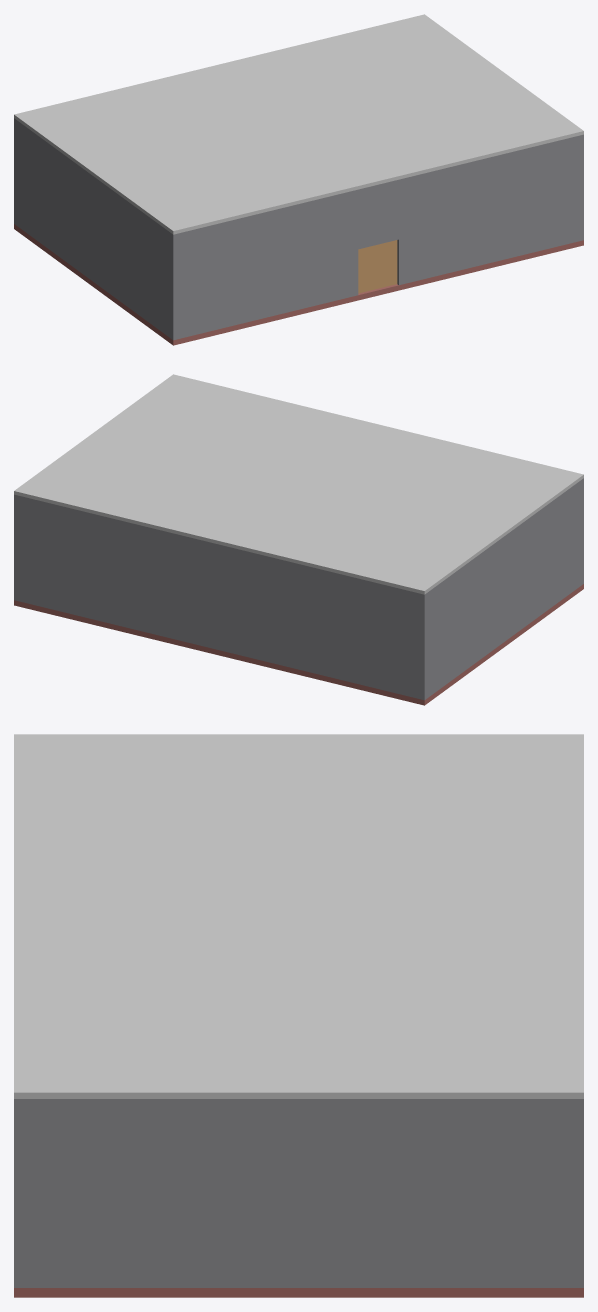
The model's file is cinema_lobby.glb.
3 views of the same model, one above another, from view 1: azimuth 30°, elevation 25°; view 2: azimuth 150°, elevation 25°; view 3: azimuth 270°, elevation 25° (orthographic). The views are drawn at different scales.
Visible parts, largest first — view 1: Lobby_Ceiling, Lobby_Wall_S_1, Lobby_Wall_S_3, Lobby_Wall_W_1, Lobby_Floor, Lobby_Wall_S_2, DoorLeaf_wing_cinema_B, DoorLeaf_wing_cinema_A; view 2: Lobby_Ceiling, Lobby_Wall_N_1, Lobby_Wall_W_1, Lobby_Floor; view 3: Lobby_Ceiling, Lobby_Wall_E_1, Lobby_Floor, Lobby_Wall_N_1, Lobby_Wall_S_3.
Boxes of the visible parts, left/top/right/bottom form: Lobby_Ceiling: left=14, top=14, right=583, bottom=234; Lobby_Wall_S_1: left=171, top=189, right=358, bottom=340; Lobby_Wall_S_3: left=397, top=134, right=583, bottom=285; Lobby_Wall_W_1: left=16, top=120, right=171, bottom=338; Lobby_Floor: left=14, top=224, right=583, bottom=345; Lobby_Wall_S_2: left=358, top=179, right=398, bottom=249; DoorLeaf_wing_cinema_B: left=377, top=240, right=397, bottom=288; DoorLeaf_wing_cinema_A: left=358, top=245, right=376, bottom=293; Lobby_Ceiling: left=14, top=374, right=583, bottom=594; Lobby_Wall_N_1: left=14, top=494, right=426, bottom=700; Lobby_Wall_W_1: left=426, top=480, right=581, bottom=698; Lobby_Floor: left=14, top=584, right=583, bottom=705; Lobby_Ceiling: left=14, top=734, right=583, bottom=1098; Lobby_Wall_E_1: left=21, top=1099, right=576, bottom=1287; Lobby_Floor: left=14, top=1288, right=583, bottom=1297; Lobby_Wall_N_1: left=577, top=1099, right=583, bottom=1287; Lobby_Wall_S_3: left=14, top=1099, right=20, bottom=1287.
Bounding box in the file's own units: 24.4 × 6.5 × 16.4.
